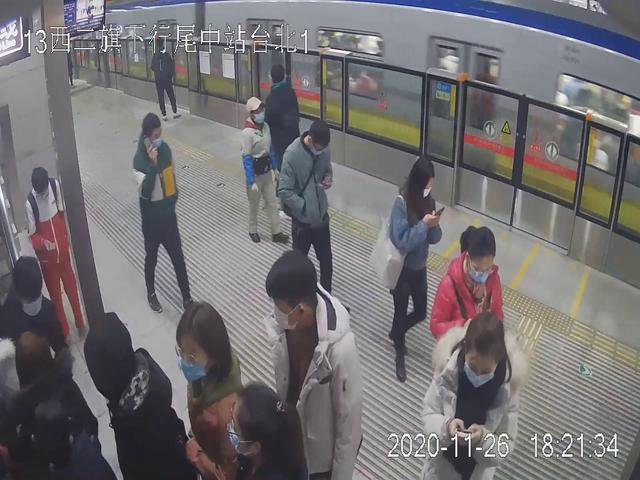person: (266, 250, 367, 480), (80, 308, 180, 480), (420, 312, 519, 480), (435, 222, 503, 435), (173, 297, 251, 480), (379, 151, 437, 382), (132, 114, 200, 309), (281, 117, 344, 311), (16, 166, 85, 339), (238, 95, 287, 241), (260, 60, 301, 220), (153, 40, 182, 118)
